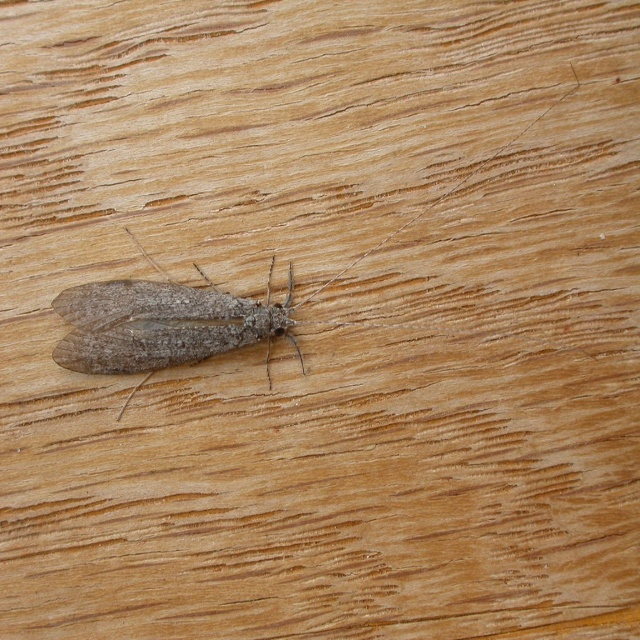Moths and butterflies: (50, 59, 602, 426)
